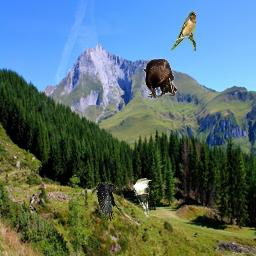Crow: (142, 58, 177, 98), (91, 182, 122, 222)
Cuckoo: (133, 178, 152, 218)
Swallow: (171, 11, 196, 51)
